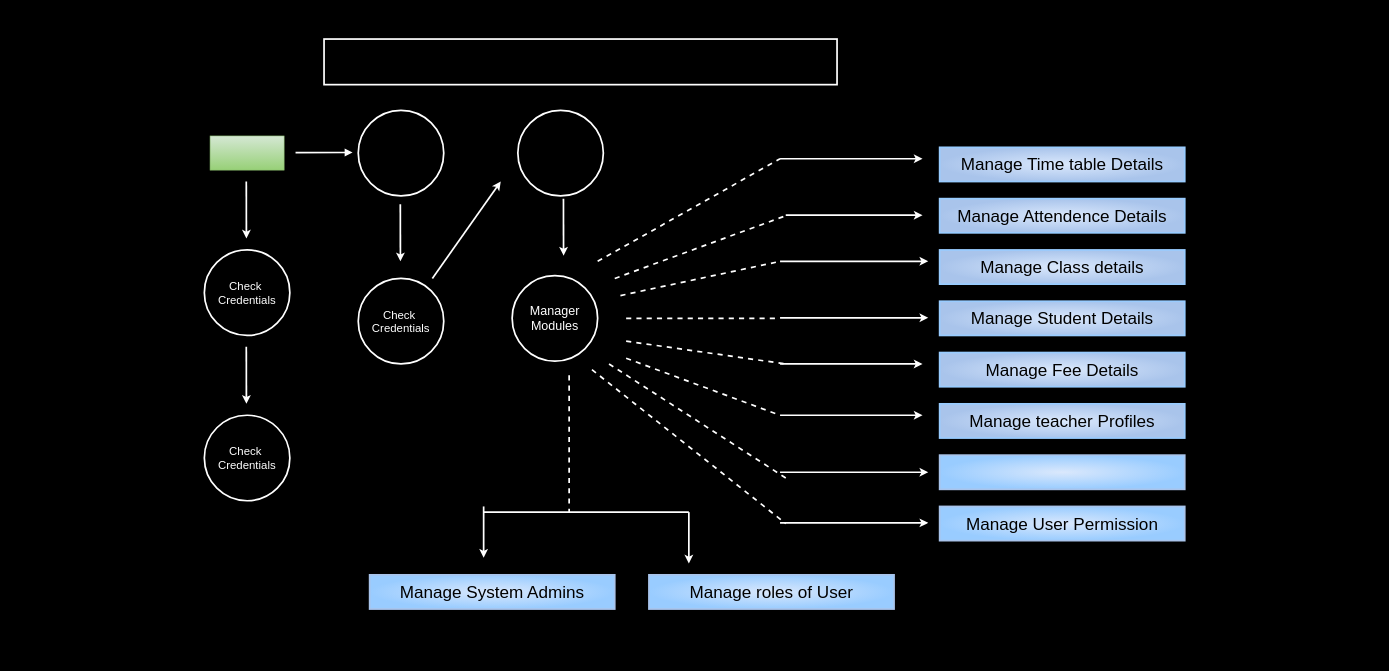
Image size: 1389x671. Some labels were removed from this diagram. The shapes that lost their labels are listed below. From the top down, each one's centre as x and y in pixels, then its label:
At (580,61): "Student Information System".
At (246,152): "ADMIN".
At (400,152): "login to system".
At (560,152): "Check r oles of access".
At (1062,473): "Manage Report".
